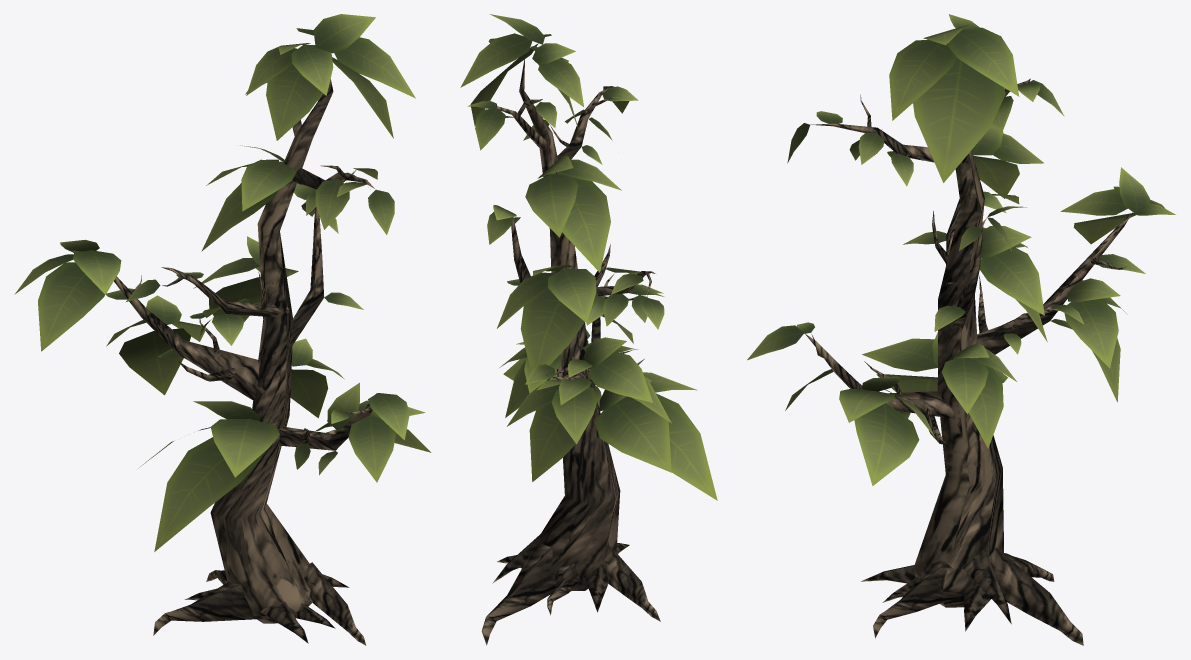
File: assets_tree_full.fbx
3 renders of one model, left to right at view 1: azimuth 30°, elevation 25°; view 2: azimuth 150°, elevation 25°; view 3: azimuth 270°, elevation 25°, orthographic. The views are drawn at different scales.
Parts seen in each view (by area): view 1: assets_tree_full_leaves, assets_tree_full_trunk; view 2: assets_tree_full_leaves, assets_tree_full_trunk; view 3: assets_tree_full_leaves, assets_tree_full_trunk.
Boxes of the visible parts, bbox=[...] form: assets_tree_full_leaves: bbox=[14, 14, 431, 551]; assets_tree_full_trunk: bbox=[114, 79, 376, 645]; assets_tree_full_leaves: bbox=[460, 14, 717, 500]; assets_tree_full_trunk: bbox=[481, 59, 660, 645]; assets_tree_full_leaves: bbox=[747, 14, 1175, 485]; assets_tree_full_trunk: bbox=[805, 78, 1132, 645].
Bounding box in the file's own units: 21.18 × 42.97 × 26.3.
